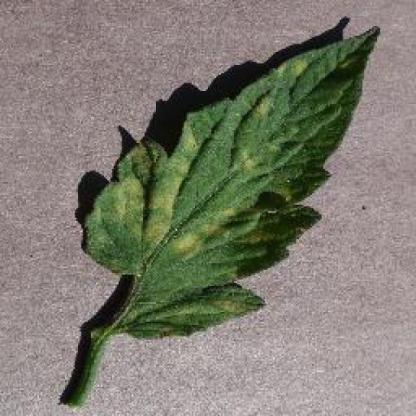Tomato_Leaf_Mold: (83, 28, 372, 285)
